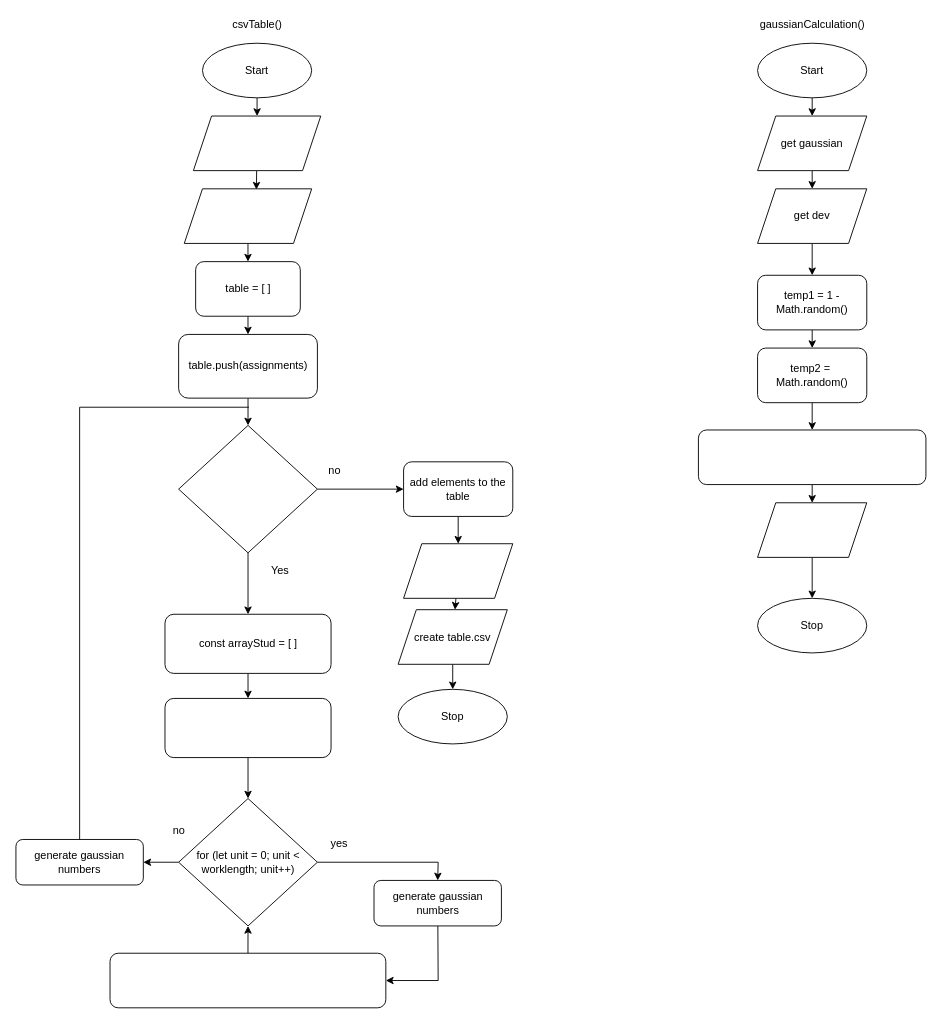
This 942x1024 diagram has some shape labels left out. The centre of each missing label's shape, as x and y in pixels:
arrayStud.push(Math.round9gaussianEquation(75, 10))): [247,980]
arrayStud.push(students[total]): [247,728]
calc = Math.sqrt(-2.0 * Math.log(temp1)) * Math.cos(2.0 * Math.PI * temp2): [812,457]
console.log("string table": [458,570]
for (let total = 0; total < students.length; total++): [247,489]
Get assignments: [247,215]
get students: [256,143]
return calc * dev * gaussian: [812,529]
